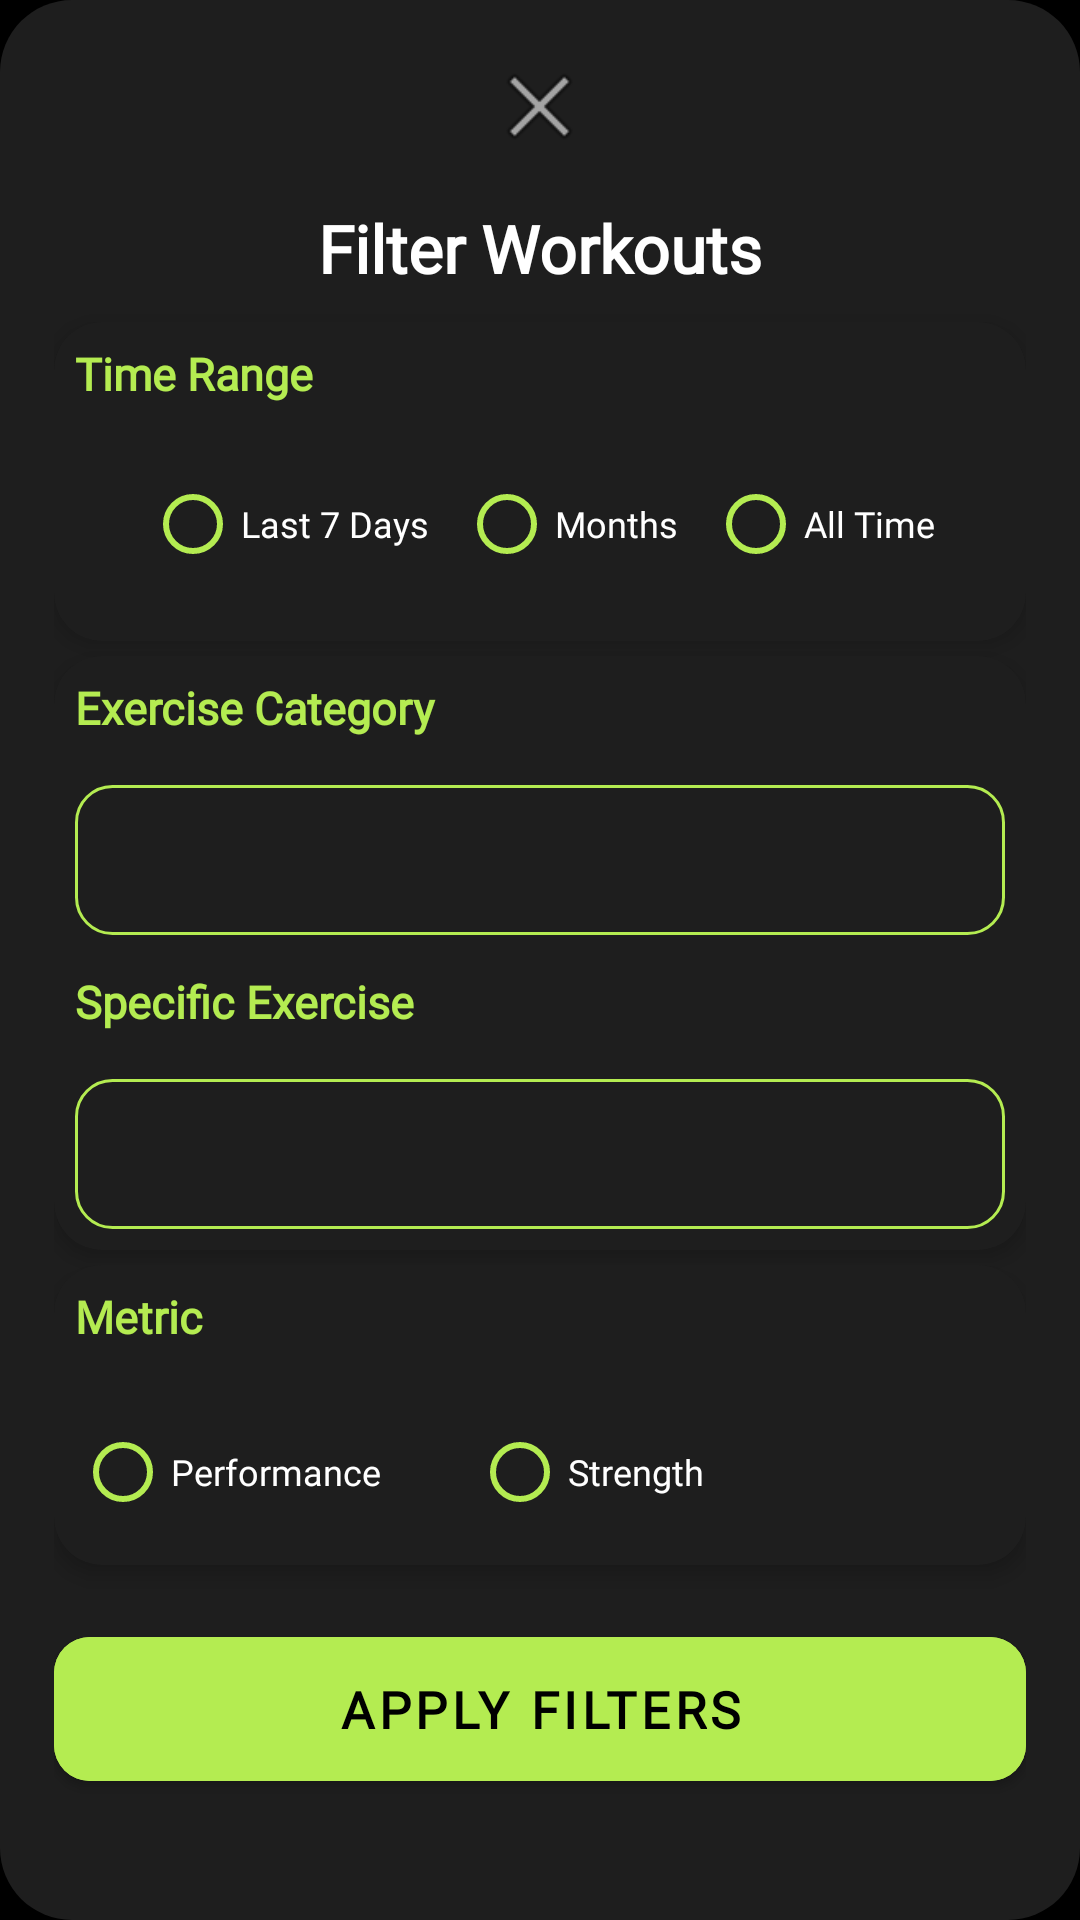

Locate icon controls on the screen. Image size 1080*1920, boxes as (x1, y1, x2, y2).
close clear cancel: (510, 77, 569, 136)
